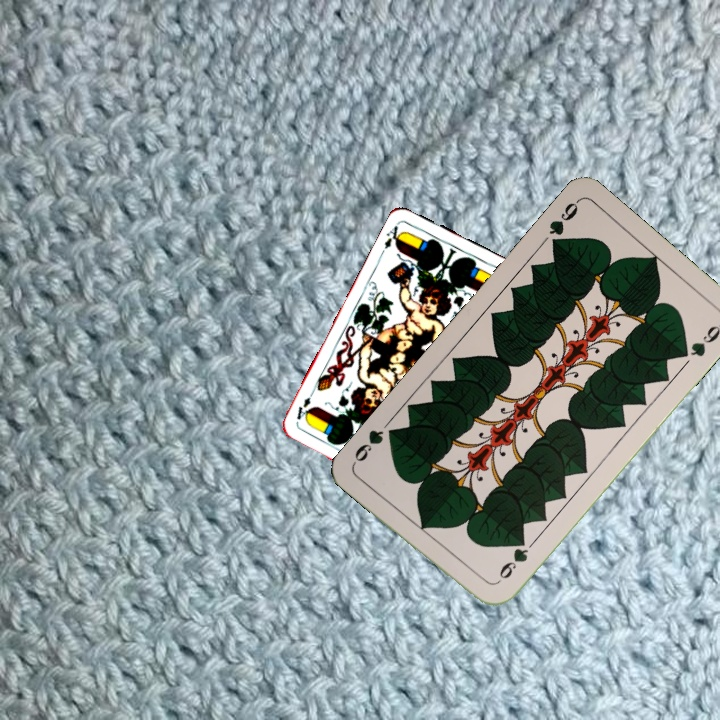EA: (377, 221, 406, 257)
G9: (544, 196, 581, 252), (495, 534, 531, 582)
